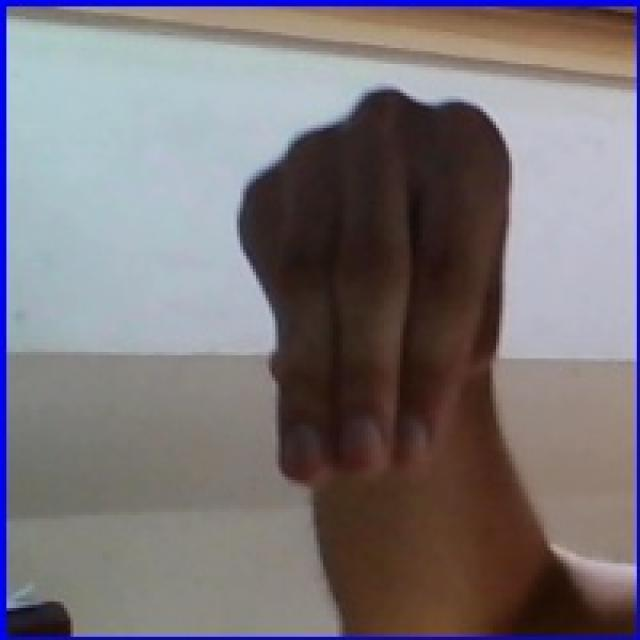Letra M: (213, 64, 546, 524)
